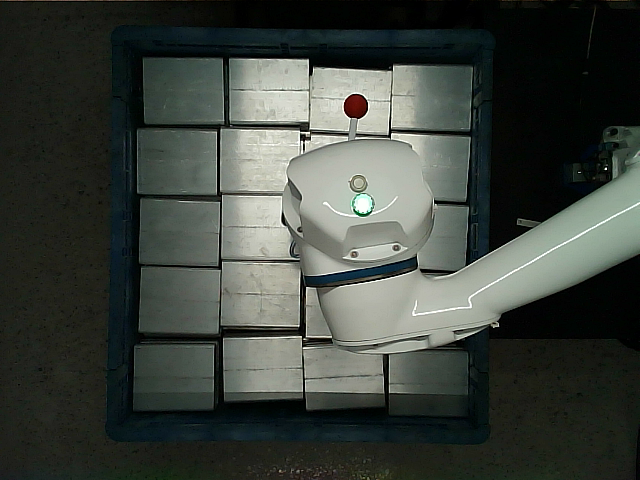green_light: (351, 193, 374, 216)
